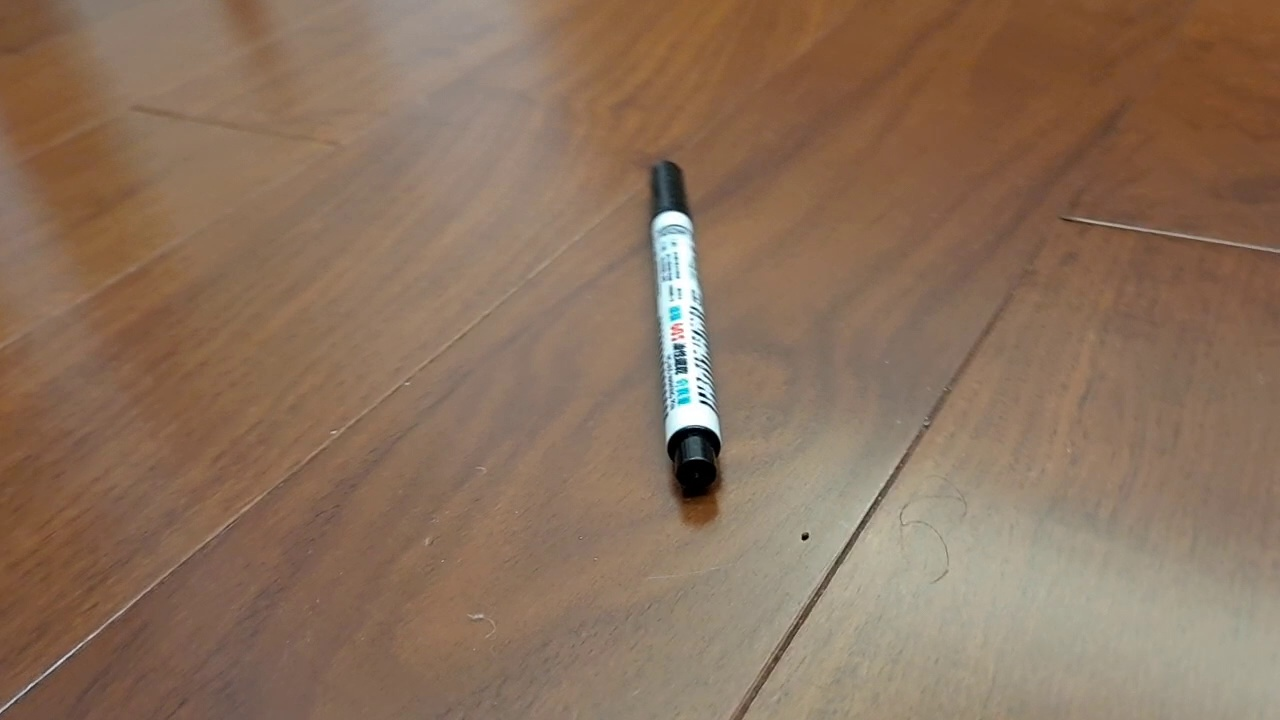pen: (647, 159, 722, 498)
